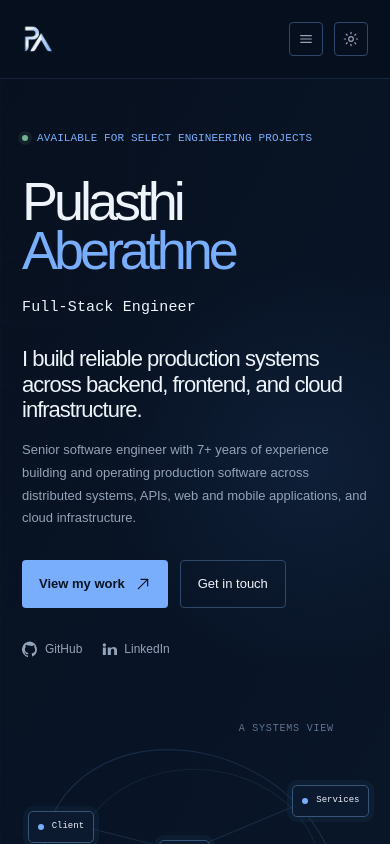
portfolio page › provides an accessible compact navigation menu
Click the button named "Open navigation menu" at point(306, 39), box [289,22,323,56]
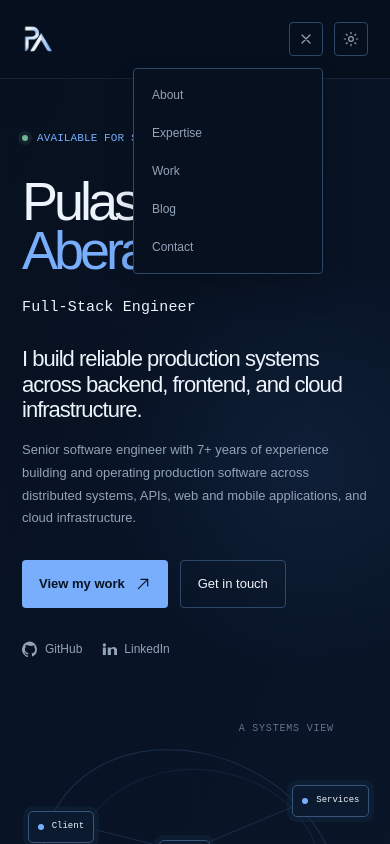
Click the link "Work" at point(166, 171), box [152,164,180,178]
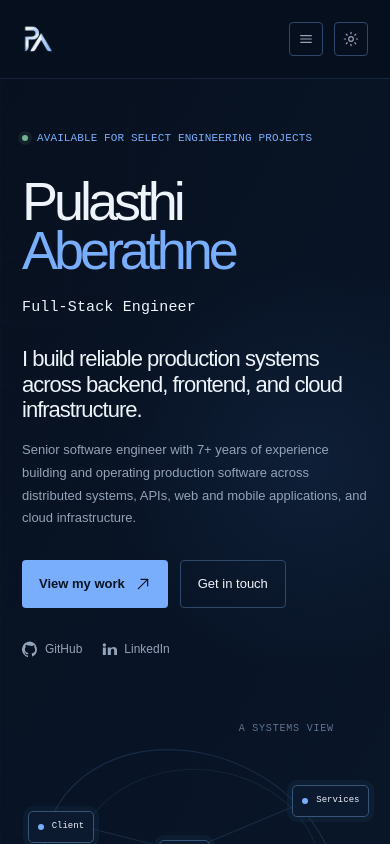
Result: the button named "Open navigation menu" is shown at [289,22,323,56]
